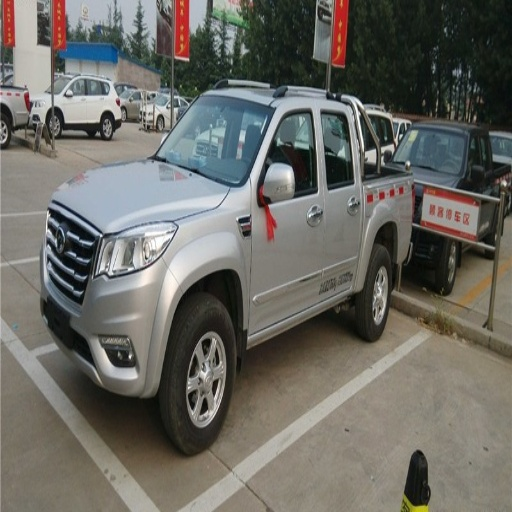front_bumper: (41, 206, 177, 395)
front_glass: (143, 96, 273, 186)
front_left_door: (254, 106, 325, 332)
trunk: (361, 173, 445, 277)
